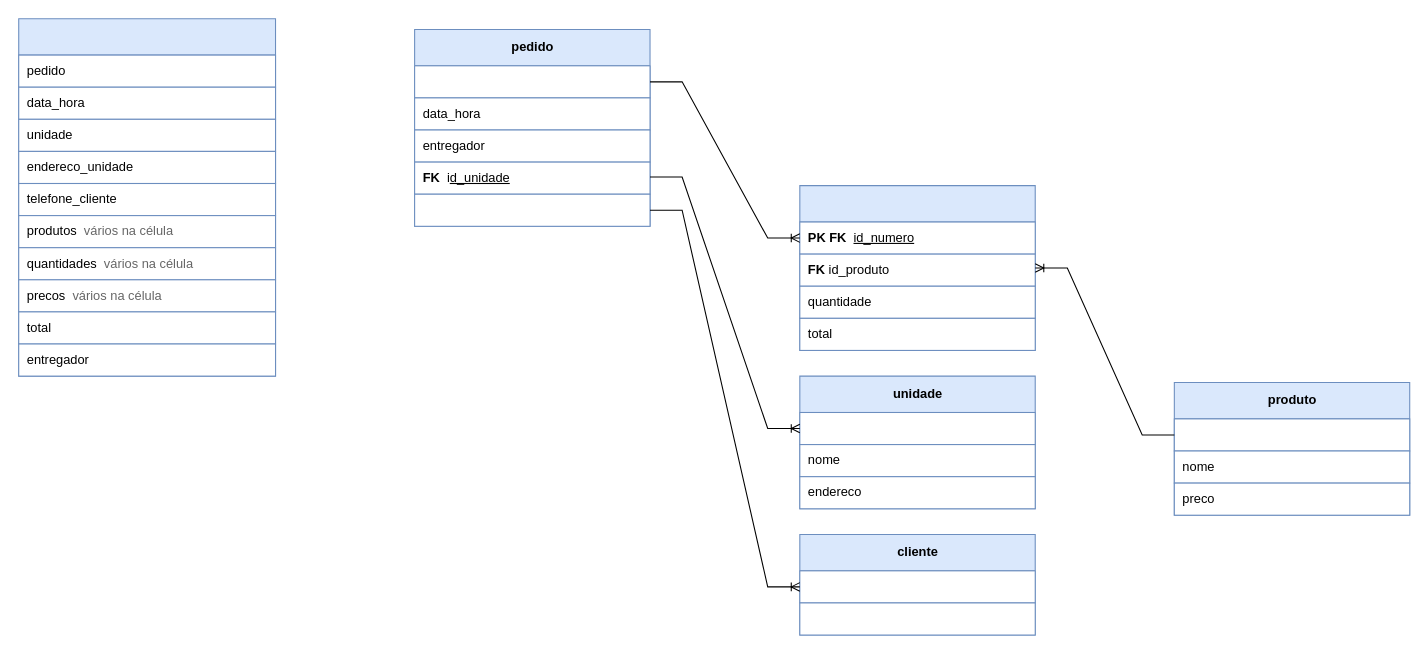
Image size: 1428x654. Some labels were removed from this diagram. The box of each missing label's shape, as (x1, y1, x2, y2) in pixels:
FK id_cliente: (414, 193, 650, 226)
item_pedido: (799, 185, 1035, 350)
PK id _produto: (1173, 418, 1410, 451)
PK id_cliente: (799, 570, 1035, 603)
PK id_numero: (414, 65, 650, 98)
PK id_unidade: (799, 411, 1035, 445)
planilha_pedidos: (18, 18, 276, 376)
telefone: (799, 602, 1035, 635)
